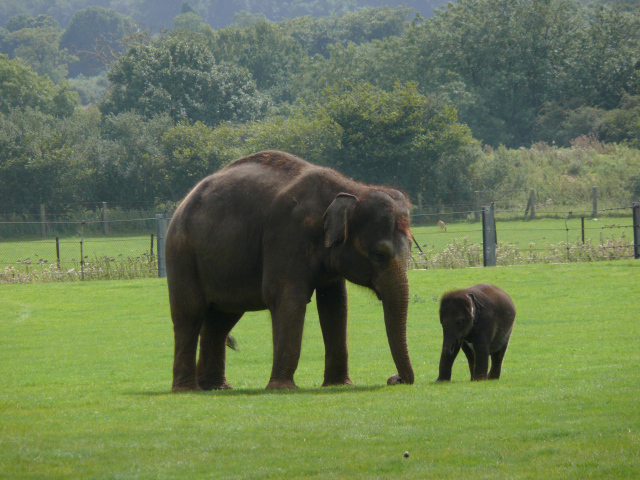elephant: (155, 146, 429, 391), (427, 278, 527, 383)
